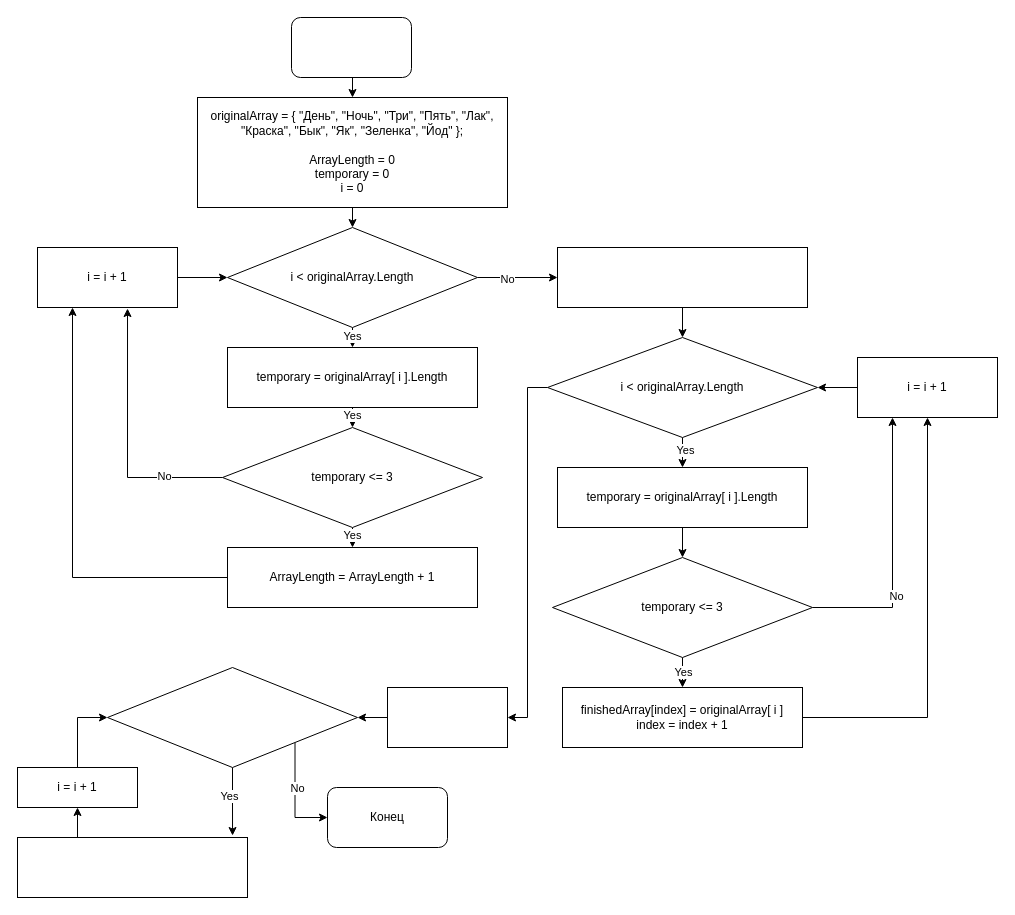
Some shapes in this 1015 by 915 pixel diagram are drawn without their labels. Here are the shapes that lost their labels. From the top down, the box of each, then its label:
(290, 16, 412, 78): Начало
(556, 246, 808, 308): finishedArray = new string[ArrayLength] index = 0 i = 0
(106, 666, 358, 768): i < finishedArray
(386, 686, 508, 748): i = 0
(16, 836, 248, 898): print (finishedArray[ i ])
